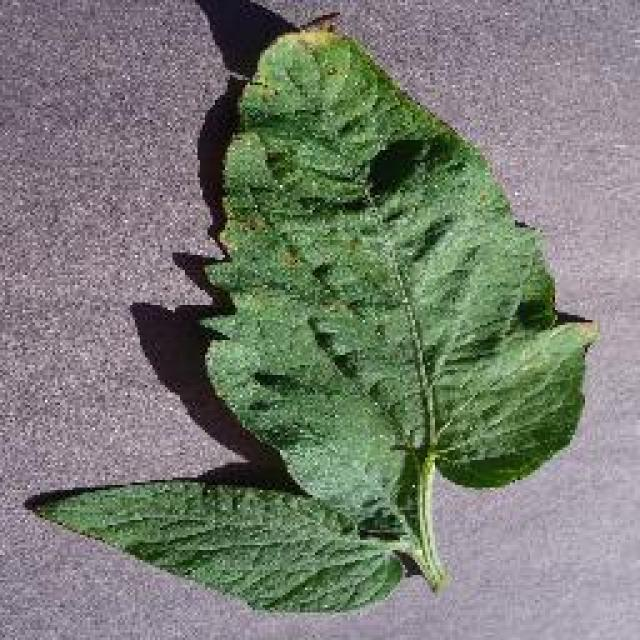Tomato Septoria spot leaf: (204, 11, 594, 519), (22, 477, 410, 615)
